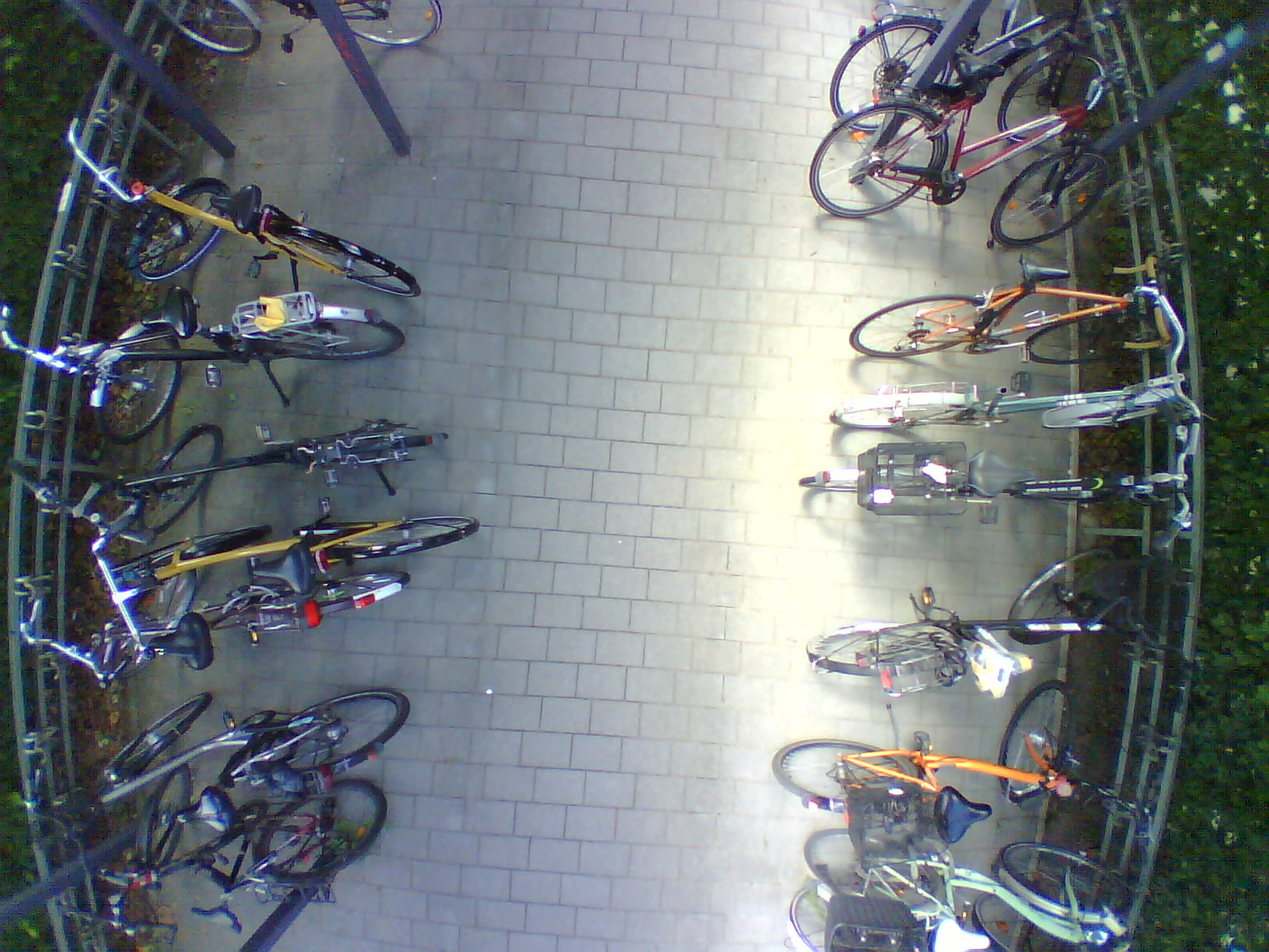bicylce: (803, 69, 1122, 246), (802, 547, 1145, 702), (771, 690, 1103, 843), (88, 682, 412, 831), (80, 289, 398, 440), (105, 155, 424, 293), (799, 435, 1196, 543), (827, 0, 1116, 140), (794, 828, 1118, 952), (52, 565, 411, 676), (123, 783, 380, 934), (86, 416, 437, 525), (849, 252, 1183, 364), (828, 359, 1196, 448), (84, 510, 480, 578)
saddle: (135, 612, 221, 679), (153, 778, 235, 846), (962, 439, 1035, 508), (964, 638, 1037, 703), (200, 177, 269, 239), (133, 288, 201, 345), (247, 552, 321, 601), (1011, 247, 1078, 301), (930, 788, 990, 848), (923, 906, 998, 952), (949, 47, 1008, 90), (188, 898, 242, 943)
